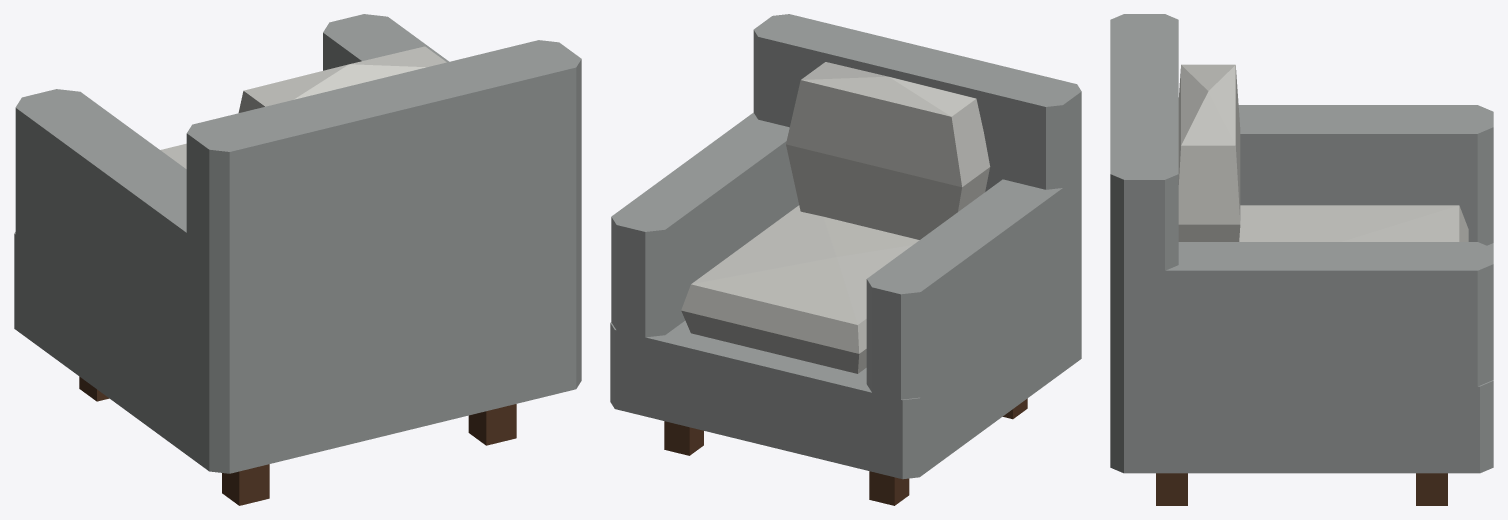
Rendered from SM_LPI_Seat_Armchair_01.fbx.
3 renders of one model, left to right at view 1: azimuth 30°, elevation 25°; view 2: azimuth 150°, elevation 25°; view 3: azimuth 270°, elevation 25°, orthographic. The views are drawn at different scales.
Parts seen in each view (by area): view 1: SM_LPI_Seat_Armchair_01; view 2: SM_LPI_Seat_Armchair_01; view 3: SM_LPI_Seat_Armchair_01.
Boxes of the visible parts, x1,y1,x2,y2 form: SM_LPI_Seat_Armchair_01: [14, 14, 581, 505]; SM_LPI_Seat_Armchair_01: [610, 14, 1081, 505]; SM_LPI_Seat_Armchair_01: [1110, 14, 1493, 505].
Bounding box in the file's own units: 0.86 × 0.8536 × 0.84.
